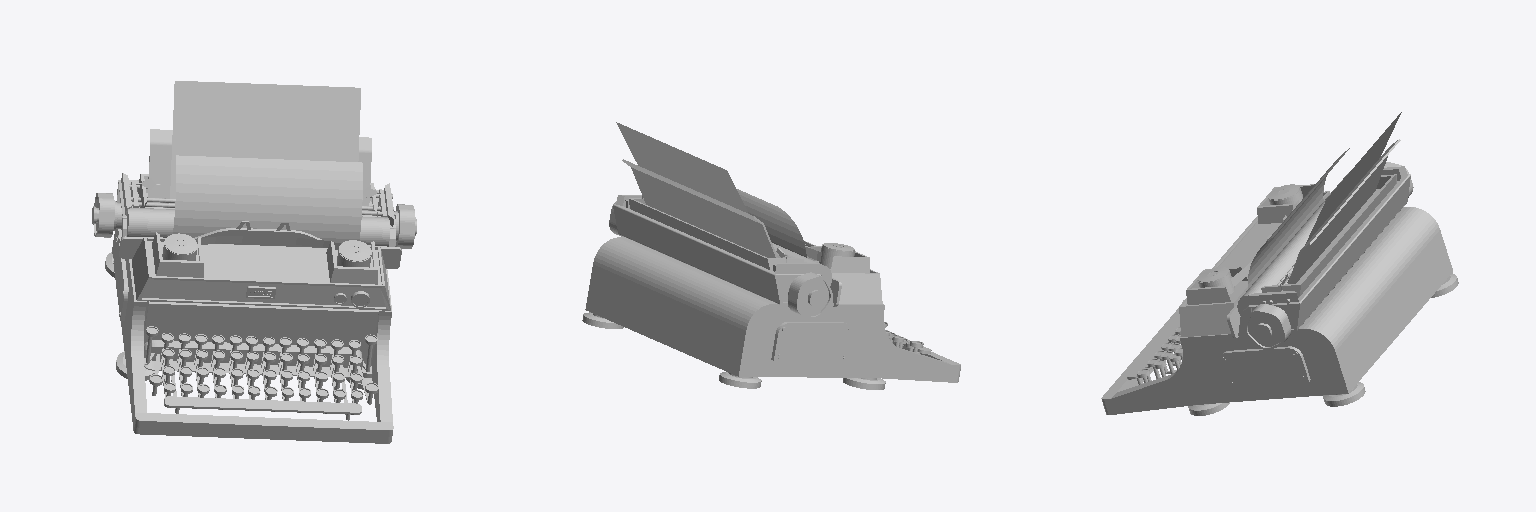
Rendered from typewriter3.obj.
The picture shows the model from 3 angles: view 1: azimuth 30°, elevation 25°; view 2: azimuth 150°, elevation 25°; view 3: azimuth 270°, elevation 25°; orthographic projection.
Size of the model in its own units: 2 by 1.66 by 1.98.